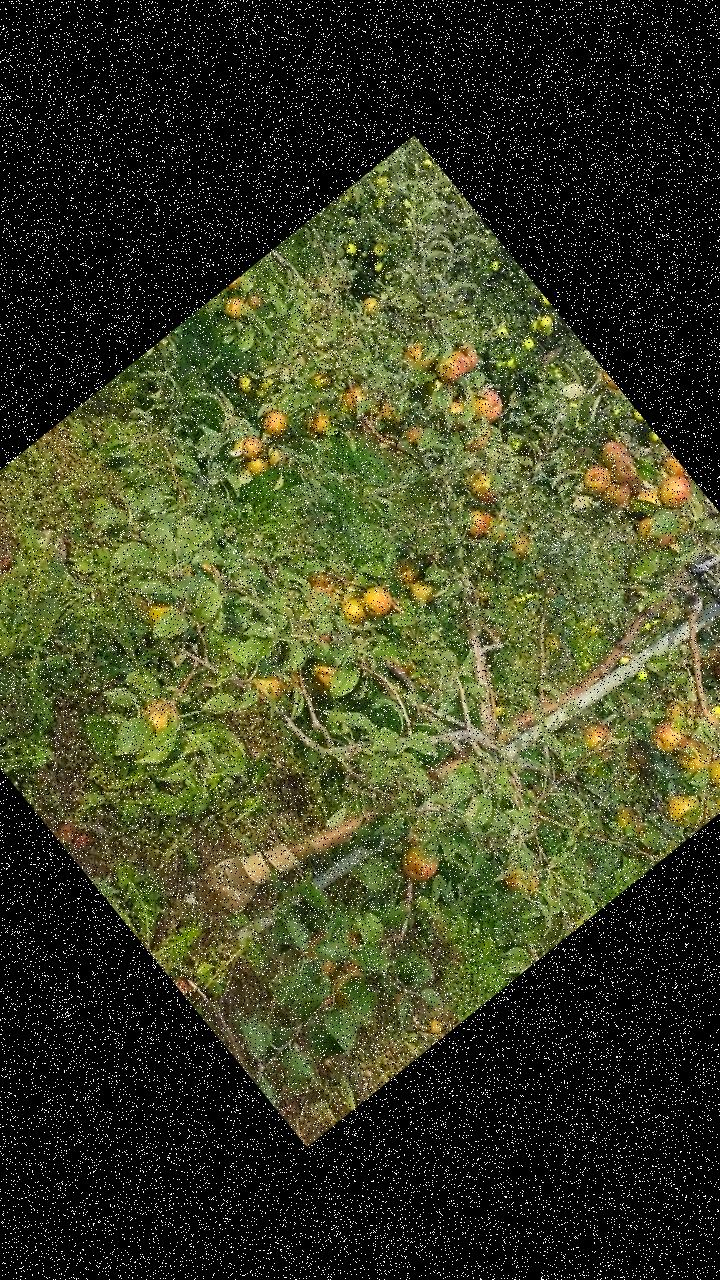Apple: (293, 923, 351, 983), (320, 956, 376, 1010), (650, 464, 700, 514), (658, 784, 708, 834), (397, 836, 445, 886), (458, 460, 506, 509), (463, 378, 510, 426), (302, 650, 348, 698), (658, 690, 704, 736), (498, 856, 544, 902), (631, 508, 676, 554), (647, 712, 692, 758), (674, 730, 718, 776), (429, 344, 474, 388), (354, 579, 398, 623), (138, 686, 182, 730), (602, 449, 644, 491), (619, 740, 659, 781), (253, 402, 294, 442), (474, 508, 514, 548), (401, 568, 441, 608), (610, 800, 649, 841), (436, 392, 474, 432), (578, 459, 616, 498), (177, 548, 216, 586), (402, 334, 439, 374), (598, 473, 636, 511), (334, 376, 372, 414), (459, 500, 498, 537), (459, 421, 497, 457), (335, 590, 371, 626), (656, 450, 690, 486), (232, 428, 267, 462), (450, 338, 484, 372), (580, 718, 614, 752), (389, 551, 422, 585), (255, 666, 287, 700), (139, 592, 173, 624), (397, 414, 430, 446), (594, 433, 626, 465), (505, 527, 536, 559), (219, 289, 250, 320), (304, 403, 334, 435), (260, 439, 290, 470), (306, 564, 336, 595), (701, 748, 719, 799), (636, 481, 665, 510), (244, 449, 273, 478), (695, 641, 719, 675), (374, 396, 402, 424), (390, 649, 417, 678), (308, 365, 335, 393), (695, 702, 719, 731), (623, 472, 649, 498), (242, 286, 266, 310), (708, 646, 719, 691), (341, 924, 362, 946), (226, 274, 246, 293), (711, 787, 719, 812)
